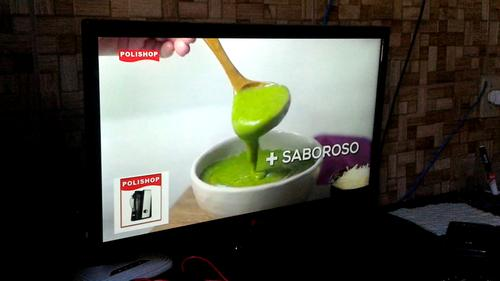Polishop #1: (112, 169, 169, 234)
